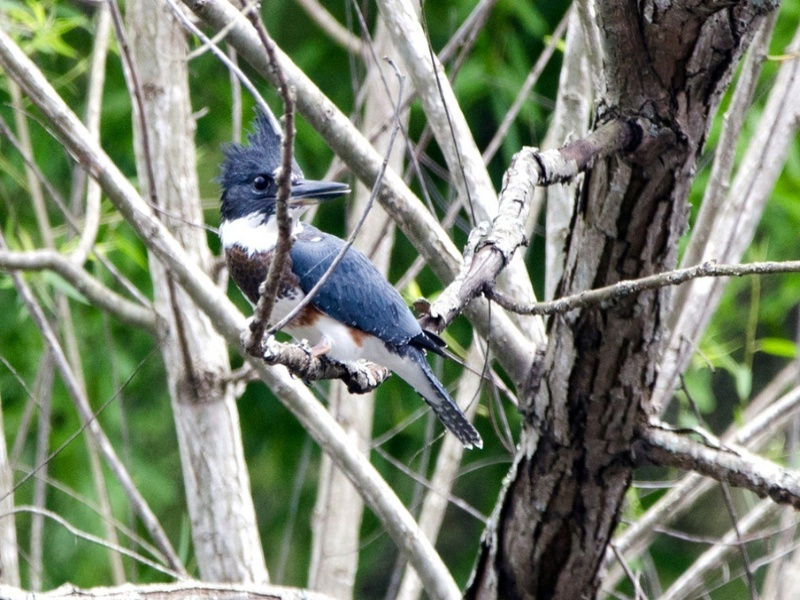kingfisher: (216, 104, 483, 451)
